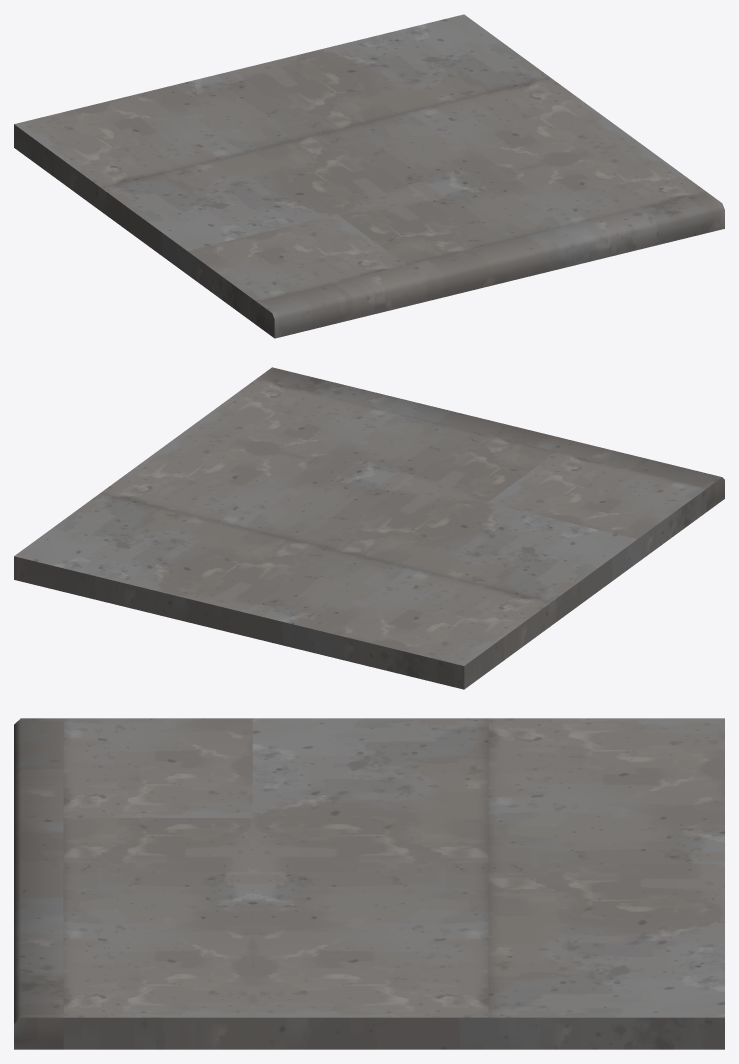
3 views of the same model, one above another, from view 1: azimuth 30°, elevation 25°; view 2: azimuth 150°, elevation 25°; view 3: azimuth 270°, elevation 25° (orthographic). The views are drawn at different scales.
Visible parts, largest first — view 1: Sidewalk_Straight_3m; view 2: Sidewalk_Straight_3m; view 3: Sidewalk_Straight_3m.
Part boxes in pixels (x1=…): Sidewalk_Straight_3m: x1=14, y1=14, x2=724, y2=338; Sidewalk_Straight_3m: x1=14, y1=367, x2=724, y2=689; Sidewalk_Straight_3m: x1=14, y1=718, x2=724, y2=1049.
Bounding box in the file's own units: 3 × 0.15 × 3.01.
Materials: 1 (1 with a texture image).
